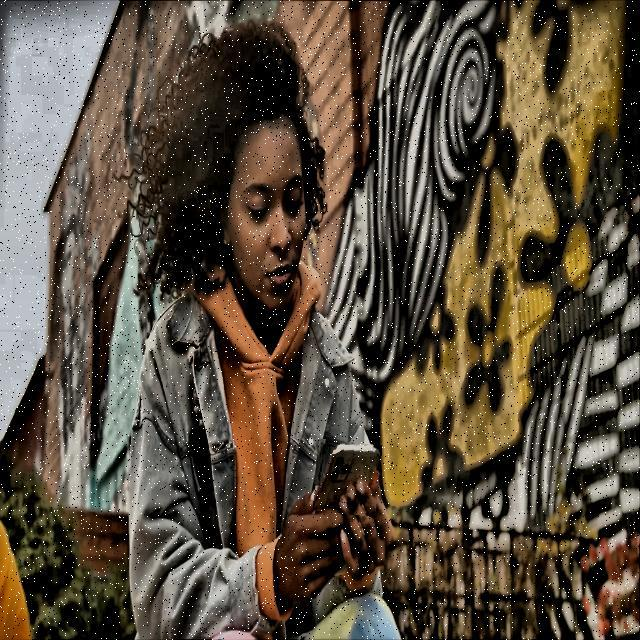Phone: (314, 441, 381, 516)
